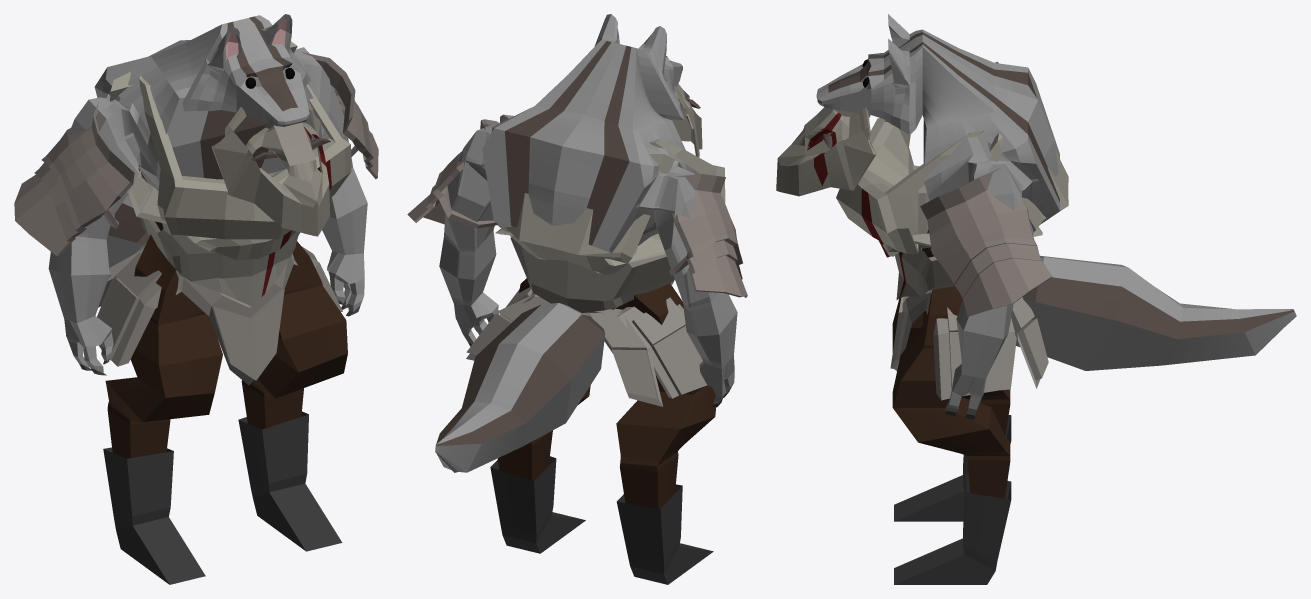
3 views of the same model, side by side, from view 1: azimuth 30°, elevation 25°; view 2: azimuth 150°, elevation 25°; view 3: azimuth 270°, elevation 25° (orthographic). The views are drawn at different scales.
Visible parts, largest first — view 1: Body, Chest piece, Hip Armor, Right Shoulder, Helmet, Stomach Armor, Left Soulder; view 2: Body, Hip Armor, Chest piece, Stomach Armor, Right Shoulder, Left Soulder, Helmet; view 3: Body, Left Soulder, Chest piece, Helmet, Hip Armor, Stomach Armor.
Boxes of the visible parts, x1,y1,x2,y2 form: Body: (48, 14, 367, 584); Chest piece: (110, 41, 351, 260); Hip Armor: (97, 243, 342, 385); Right Shoulder: (14, 102, 134, 256); Helmet: (211, 100, 330, 236); Stomach Armor: (128, 194, 299, 306); Left Soulder: (301, 52, 378, 179); Body: (435, 14, 737, 584); Hip Armor: (466, 287, 707, 406); Chest piece: (495, 114, 725, 274); Stomach Armor: (510, 237, 674, 313); Right Shoulder: (669, 174, 747, 297); Left Soulder: (407, 119, 499, 228); Helmet: (669, 84, 702, 157); Body: (816, 14, 1296, 584); Left Soulder: (920, 168, 1052, 316); Chest piece: (836, 61, 1068, 257); Helmet: (776, 107, 876, 196); Hip Armor: (890, 249, 1048, 400); Stomach Armor: (895, 193, 954, 299).
Bounding box in the file's own units: 376 × 549 × 499.
